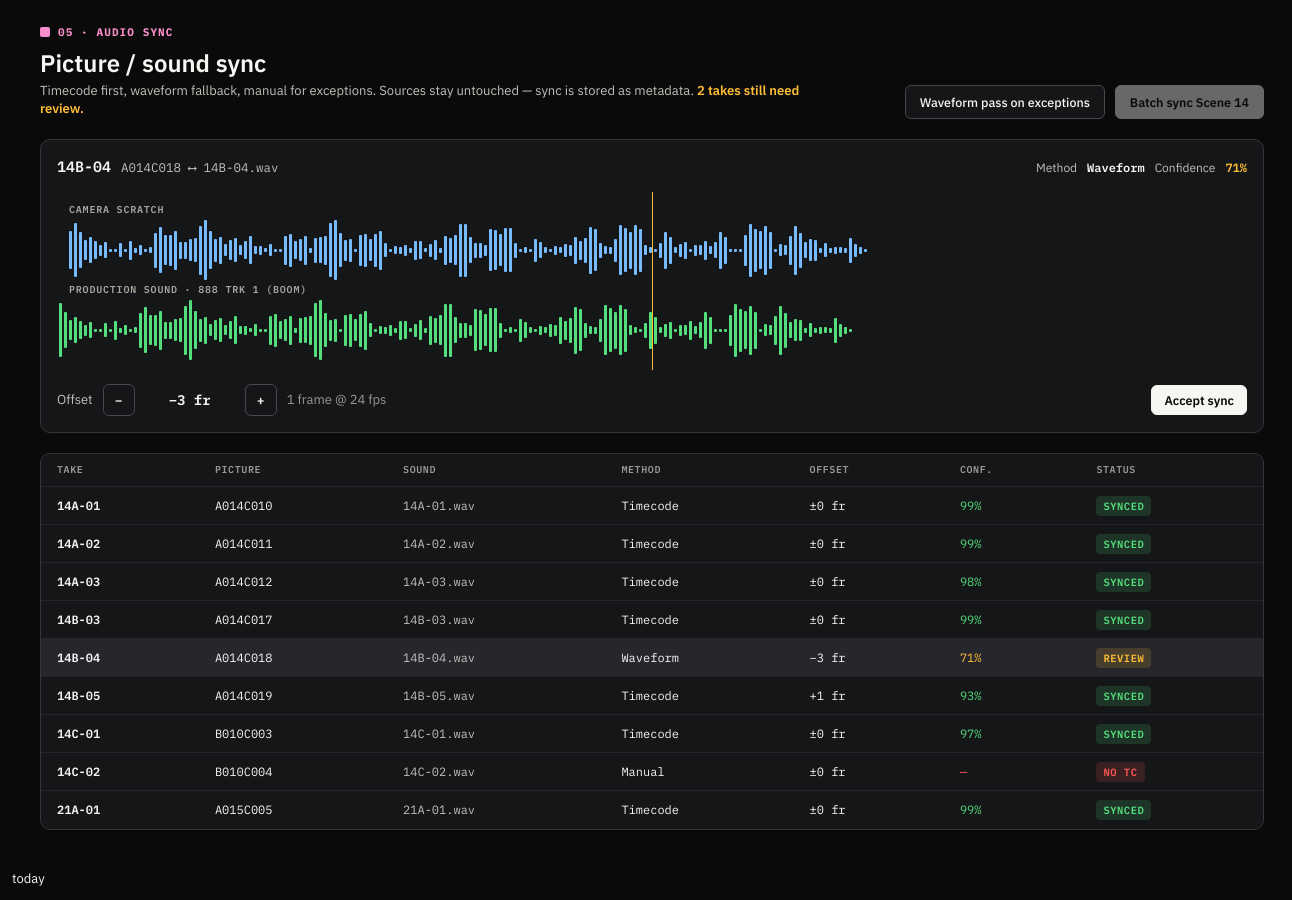
Scenario: Audio Sync › selects a row from the table and shows its status
Click the text "21A-01": (652, 810) left=41, top=791, right=1263, bottom=829
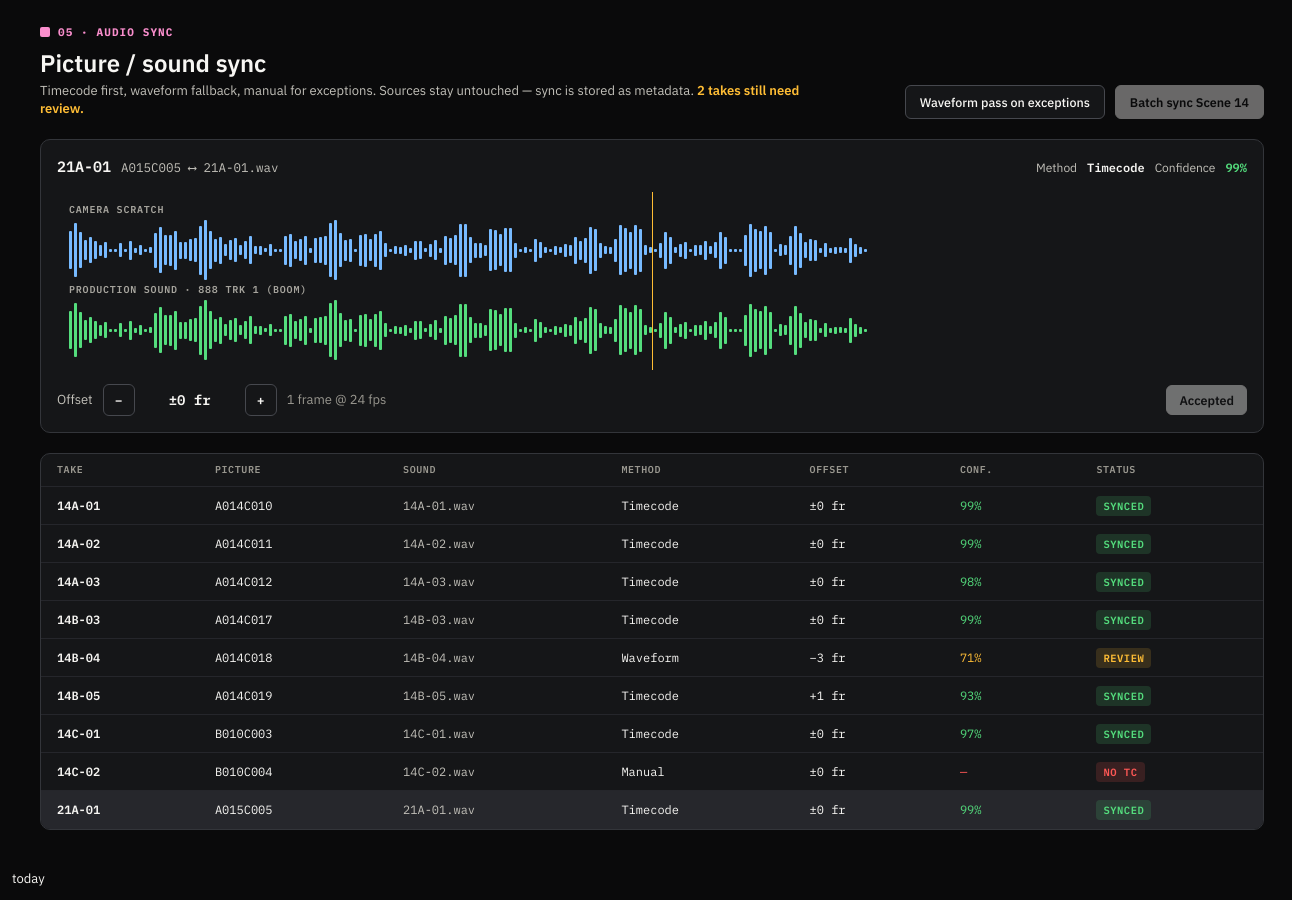
expect the text "No TC" is shown: met, box left=1096, top=762, right=1144, bottom=782
expect the button "Accepted" is disabled: met, box left=1166, top=385, right=1247, bottom=415
